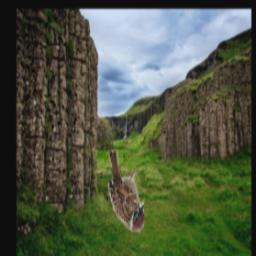Sparrow: (107, 149, 144, 232)
